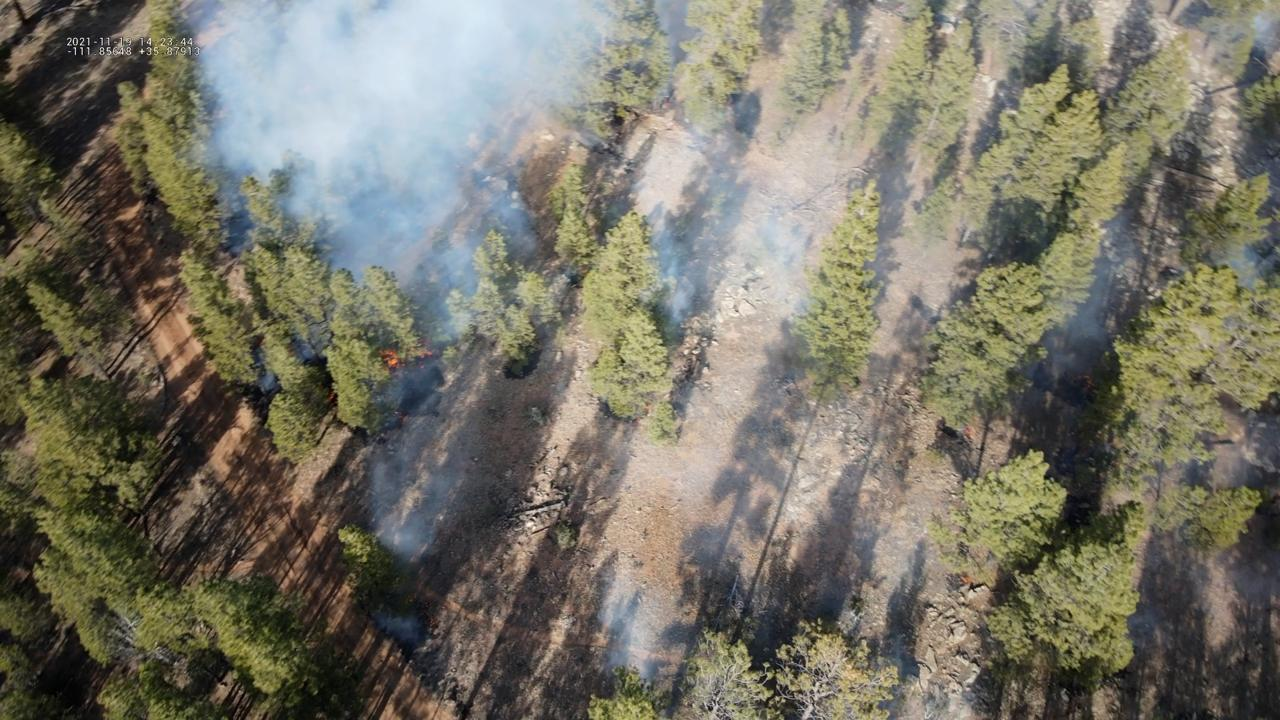fire: (413, 338, 433, 369), (376, 348, 401, 369), (1073, 375, 1091, 392), (327, 390, 335, 404), (399, 415, 405, 419)
smoke: (167, 0, 816, 403), (1026, 205, 1137, 385), (367, 405, 467, 569), (593, 587, 658, 687), (1205, 0, 1280, 74), (1211, 243, 1271, 290), (371, 610, 426, 650)
